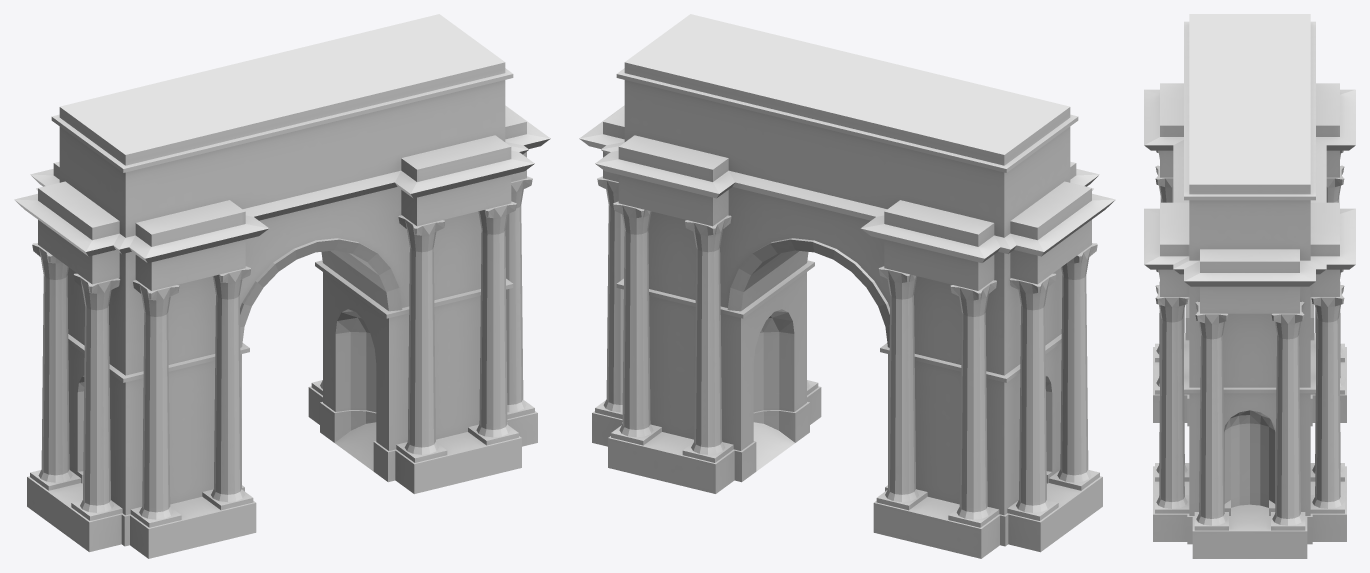
The model's file is nargate.dae.
3 renders of one model, left to right at view 1: azimuth 30°, elevation 25°; view 2: azimuth 150°, elevation 25°; view 3: azimuth 270°, elevation 25°, orthographic. The views are drawn at different scales.
Parts seen in each view (by area): view 1: nargate; view 2: nargate; view 3: nargate.
Part boxes in pixels (x1,y1,x2,y2): nargate: (14,14,550,558); nargate: (579,14,1115,558); nargate: (1144,14,1355,558).
Bounding box in the file's own units: 0.0454 × 0.0195 × 0.0364.
1 material, 1 textured.
